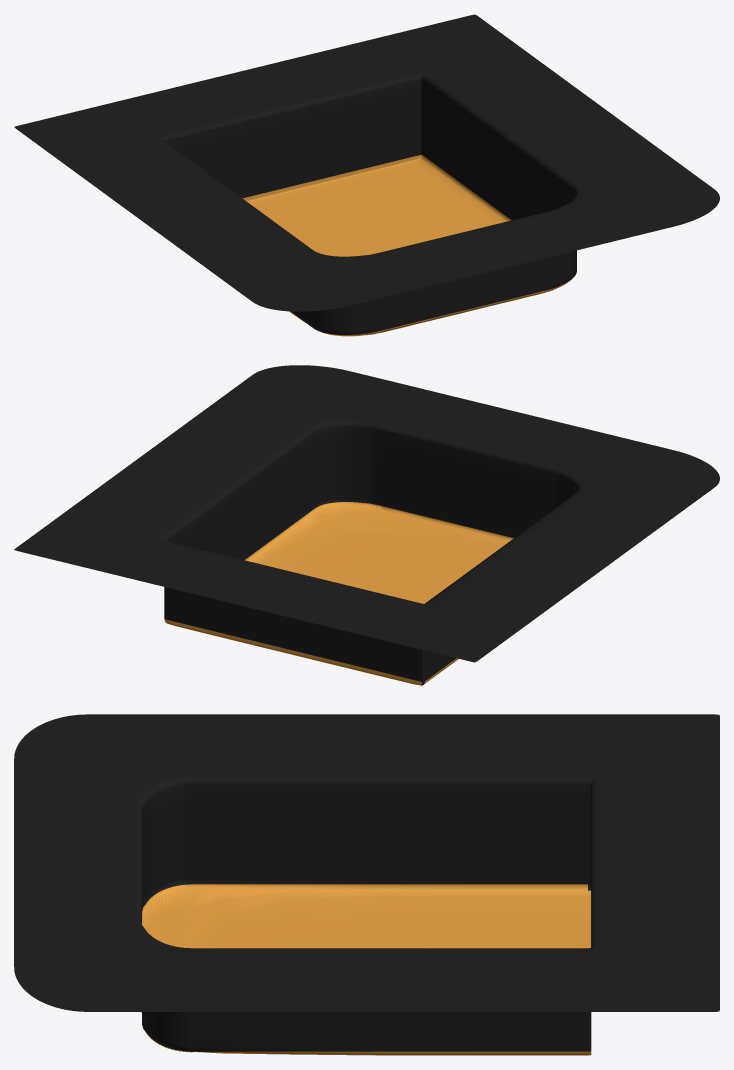
File: ChillPlace.fbx
3 renders of one model, top to bottom at view 1: azimuth 30°, elevation 25°; view 2: azimuth 150°, elevation 25°; view 3: azimuth 270°, elevation 25°, orthographic. The views are drawn at different scales.
Parts seen in each view (by area): view 1: Cube.001; view 2: Cube.001; view 3: Cube.001.
Boxes of the visible parts, left/top/right/bottom form: Cube.001: left=14, top=14, right=719, bottom=336; Cube.001: left=14, top=365, right=719, bottom=685; Cube.001: left=14, top=714, right=719, bottom=1055.
Size of the model in its own units: 1601 by 280 by 1606.
